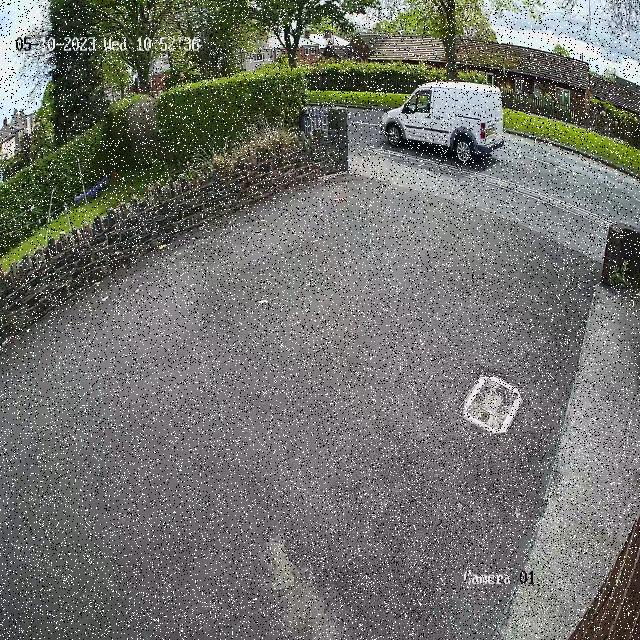vehicle: (371, 72, 510, 169)
